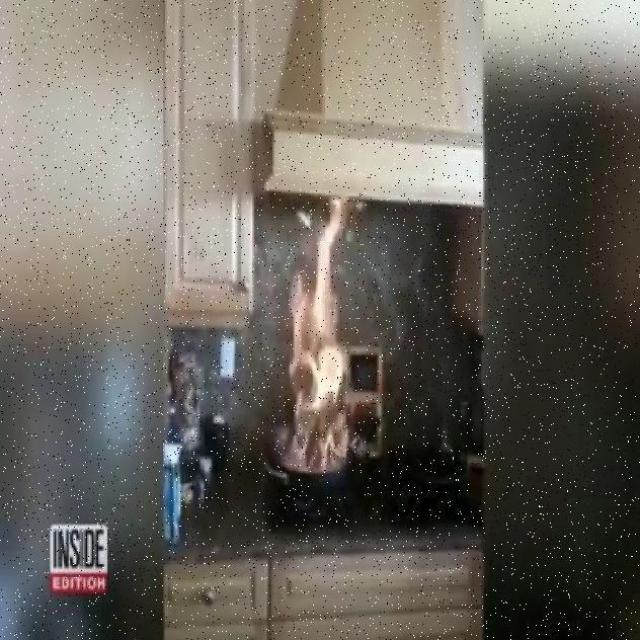smoke: (286, 176, 358, 474)
